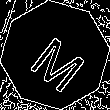M_NE: (21, 21, 89, 89)
